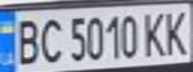0: (118, 10, 142, 58), (84, 12, 106, 62)
1: (103, 11, 124, 61)
5: (63, 12, 87, 63)
B: (9, 15, 42, 66)
C: (36, 14, 66, 65)
K: (160, 6, 193, 56), (139, 7, 169, 57)
